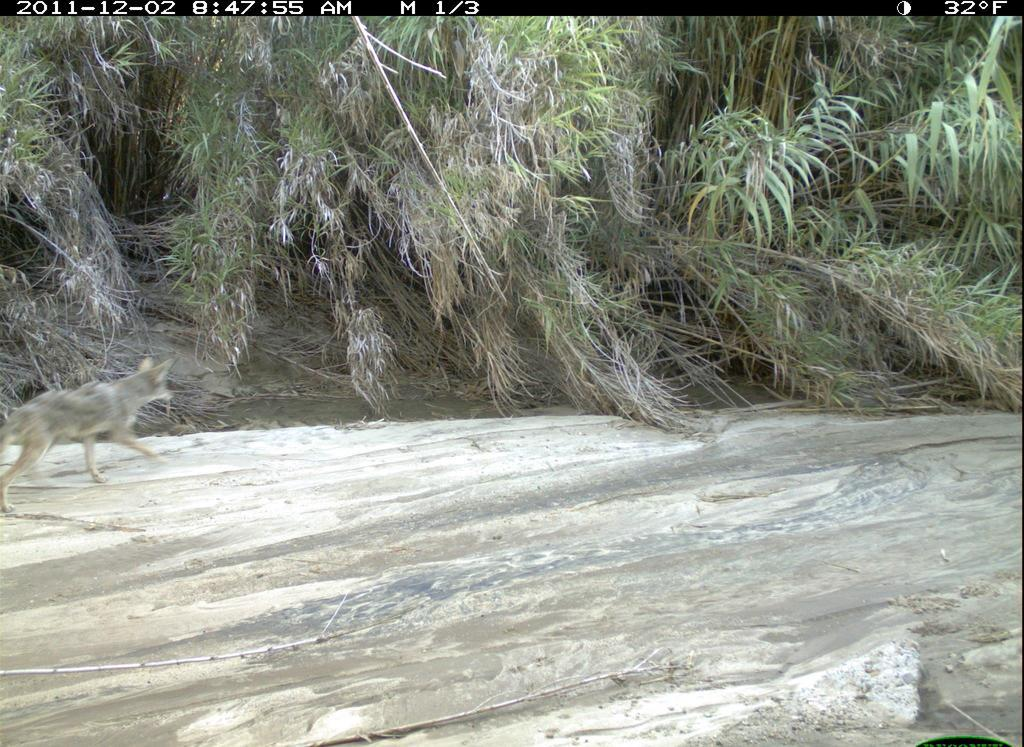coyote: (3, 349, 190, 518)
